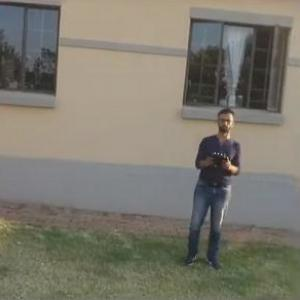follow: (182, 103, 244, 278)
